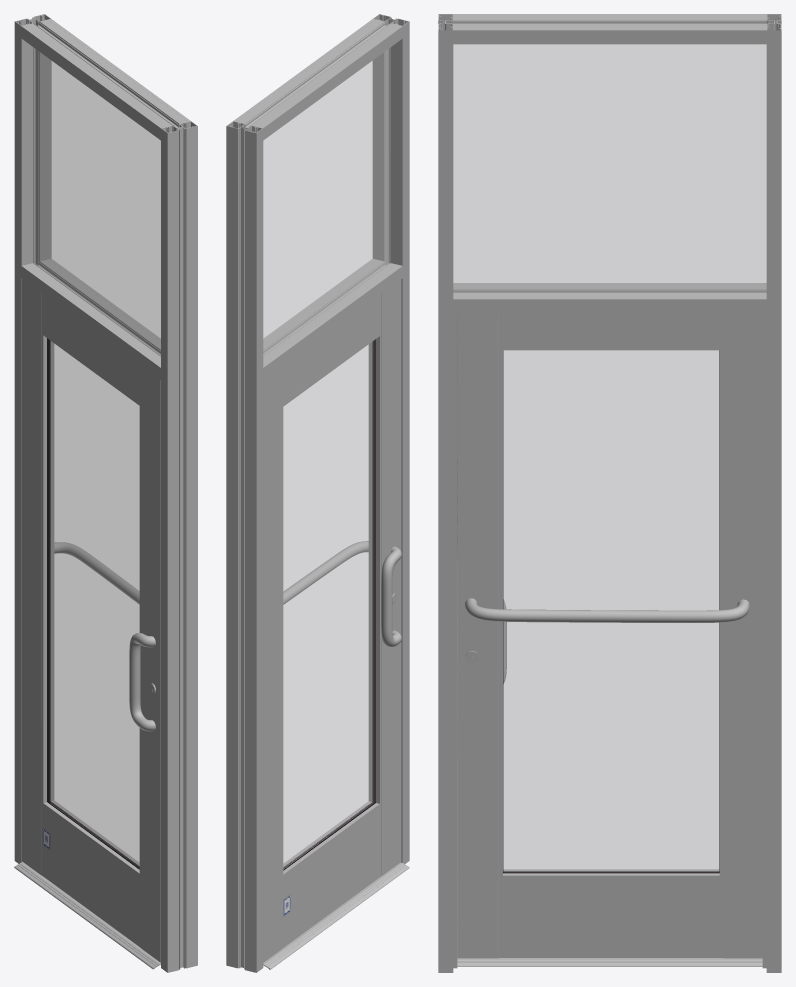
3 renders of one model, left to right at view 1: azimuth 30°, elevation 25°; view 2: azimuth 150°, elevation 25°; view 3: azimuth 270°, elevation 25°, orthographic. The views are drawn at different scales.
Visible parts, largest first — view 1: D500.016, D500.017, PROFILE_curve_.018, D500.001, PROFILE_curve_.023, D500.009, PROFILE_curve_.019, D500.011, D500.012, PROFILE_curve_.001, PROFILE_curve_.014, PROFILE_curve_.002 (+6 smaller); view 2: D500.016, D500.017, PROFILE_curve_.022, D500.009, PROFILE_curve_.019, PROFILE_curve_.023, D500.001, D500.011, D500.012, PROFILE_curve_.001, PROFILE_curve_.014, PROFILE_curve_.002 (+6 smaller); view 3: D500.016, D500.017, D500.009, D500.001, D500.011, PROFILE_curve_.023, PROFILE_curve_.019, D500.012, PROFILE_curve_.008, PROFILE_curve_.002, PROFILE_curve_.001, PROFILE_curve_.014 (+4 smaller).
Boxes of the visible parts, box(x1,y1,x2,y2) form: D500.016: box(47, 338, 139, 868); D500.017: box(34, 48, 160, 354); PROFILE_curve_.018: box(170, 126, 194, 971); D500.001: box(22, 279, 54, 876); PROFILE_curve_.023: box(14, 14, 51, 863); D500.009: box(139, 365, 160, 962); PROFILE_curve_.019: box(161, 121, 197, 972); D500.011: box(43, 800, 139, 946); D500.012: box(43, 294, 139, 405); PROFILE_curve_.001: box(25, 19, 187, 127); PROFILE_curve_.014: box(25, 259, 160, 364); PROFILE_curve_.002: box(21, 19, 190, 140); D500.016: box(283, 339, 375, 868); D500.017: box(263, 48, 389, 354); PROFILE_curve_.022: box(229, 126, 253, 971); D500.009: box(368, 279, 401, 876); PROFILE_curve_.019: box(372, 14, 409, 864); PROFILE_curve_.023: box(226, 121, 263, 972); D500.001: box(263, 366, 283, 962); D500.011: box(283, 801, 379, 947); D500.012: box(283, 295, 379, 406); PROFILE_curve_.001: box(236, 20, 399, 127); PROFILE_curve_.014: box(263, 259, 399, 364); PROFILE_curve_.002: box(233, 19, 402, 140); D500.016: box(503, 350, 718, 872); D500.017: box(453, 44, 766, 292); D500.009: box(457, 313, 502, 958); D500.001: box(719, 313, 762, 958); D500.011: box(503, 869, 719, 957); PROFILE_curve_.023: box(766, 14, 781, 972); PROFILE_curve_.019: box(438, 14, 453, 972); D500.012: box(503, 313, 719, 350); PROFILE_curve_.008: box(453, 283, 766, 313); PROFILE_curve_.002: box(453, 14, 766, 44); PROFILE_curve_.001: box(453, 15, 766, 28); PROFILE_curve_.014: box(453, 284, 766, 297).
Size of the model in its own units: 0.1922 by 3.05 by 1.01.
8 materials, 1 textured.
